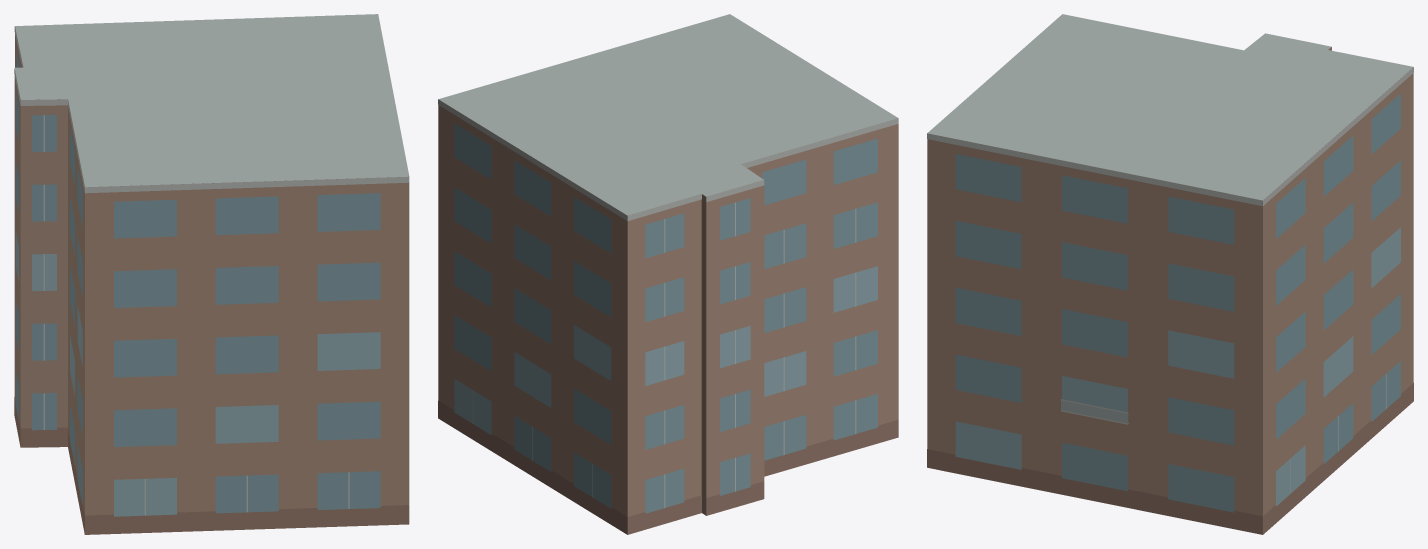
File: survey-upis-32971726.glb
3 renders of one model, left to right at view 1: azimuth 30°, elevation 25°; view 2: azimuth 150°, elevation 25°; view 3: azimuth 270°, elevation 25°, orthographic. The views are drawn at different scales.
Parts seen in each view (by area): view 1: survey-upis-32971726.tmp; view 2: survey-upis-32971726.tmp; view 3: survey-upis-32971726.tmp.
Part boxes in pixels (x1,y1,x2,y2): survey-upis-32971726.tmp: (14, 14, 409, 534); survey-upis-32971726.tmp: (438, 14, 898, 534); survey-upis-32971726.tmp: (927, 14, 1413, 534).
Bounding box in the file's own units: 16.88 × 14.1 × 18.61.
